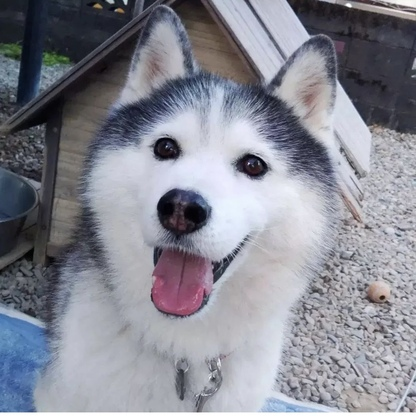husky: (29, 2, 349, 416)
